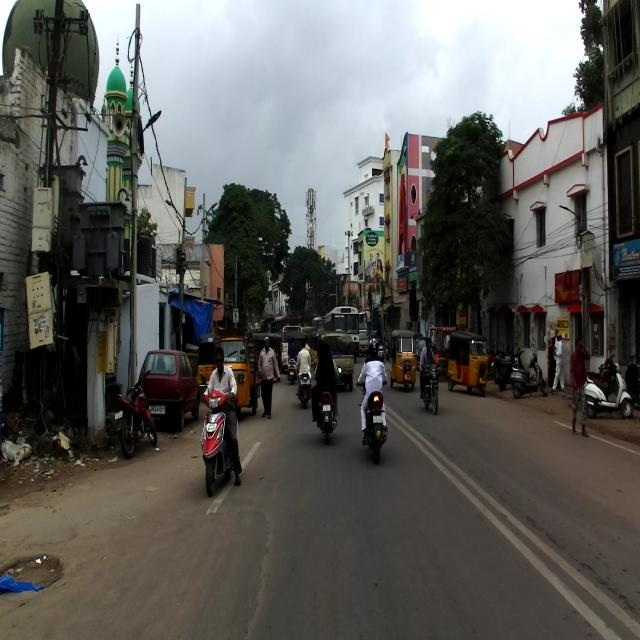Car_Maruti-Suzuki: (138, 349, 200, 431)
motorcycle_Hero: (112, 369, 158, 459), (314, 366, 341, 444)
motorcycle_Suzuki: (356, 377, 388, 463)
scooter: (197, 374, 240, 498), (580, 359, 632, 421), (507, 363, 549, 399)
